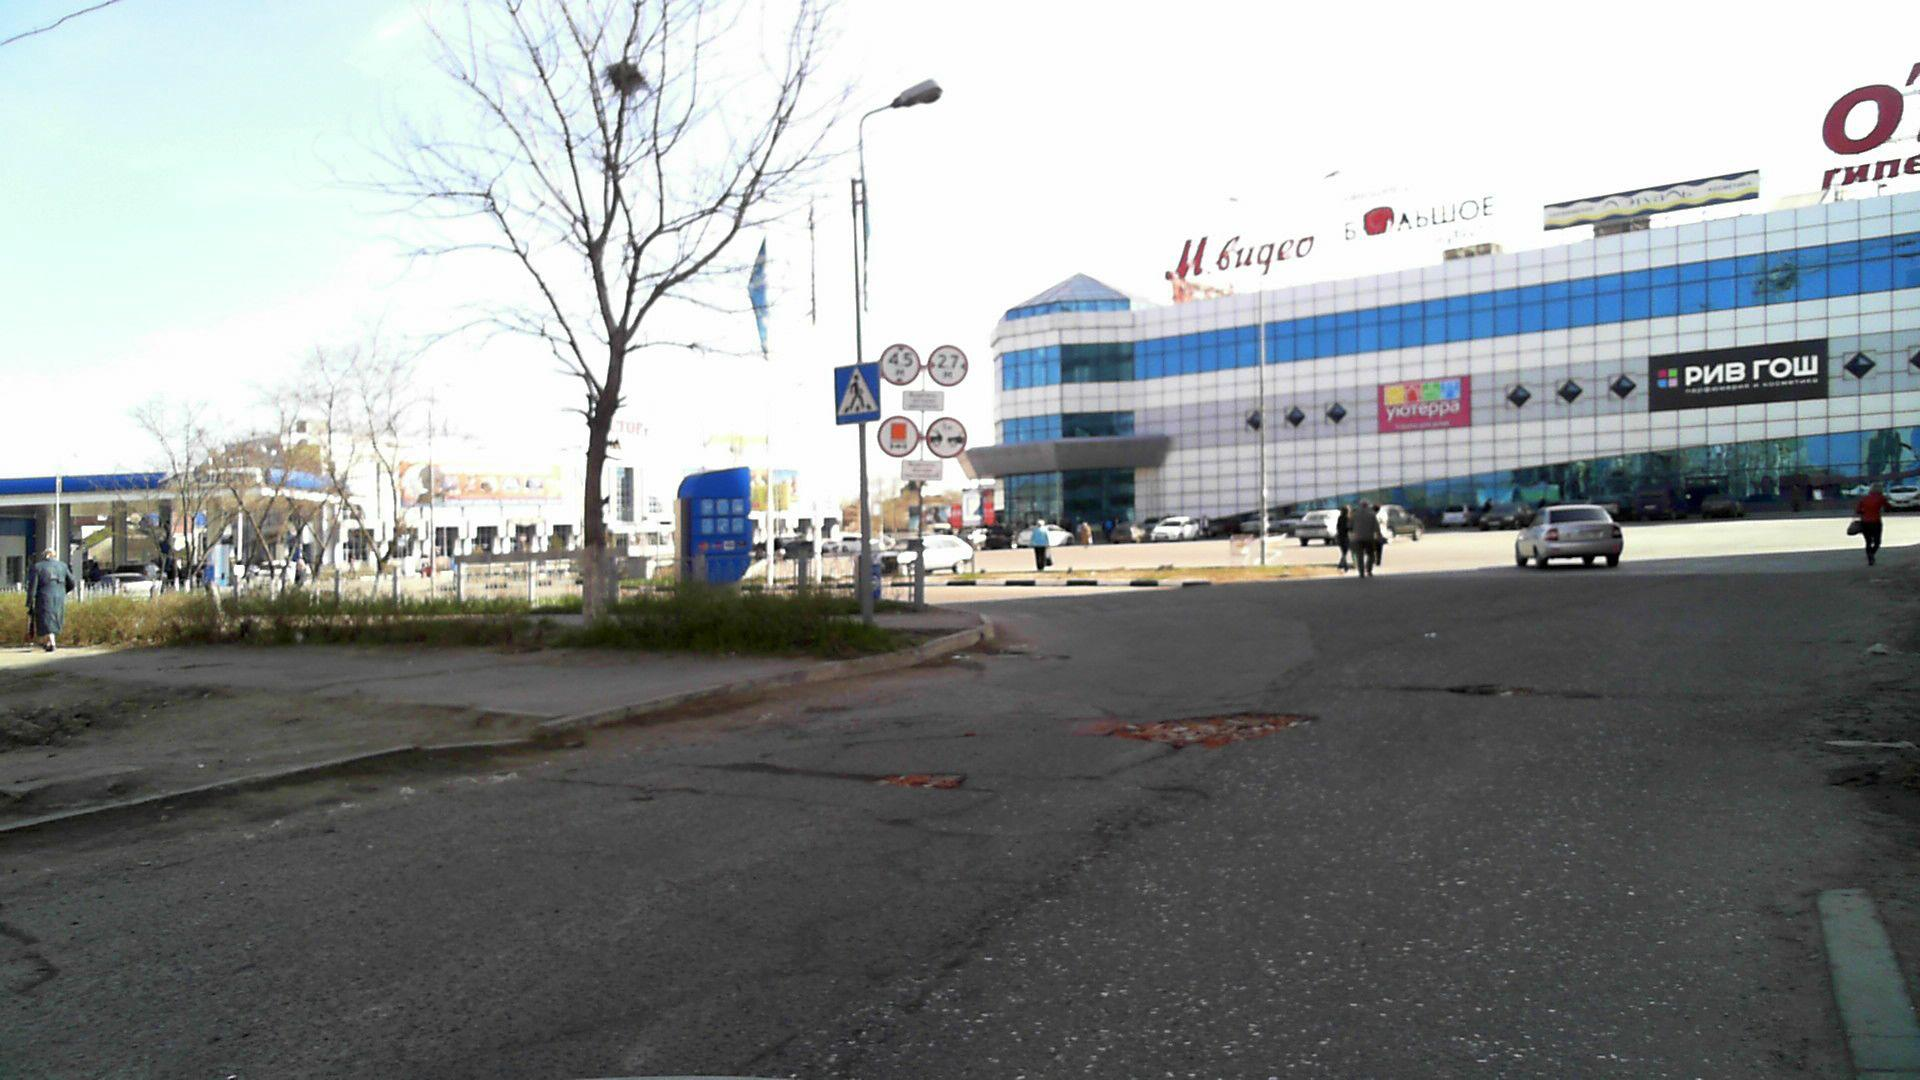3_13: (879, 342, 919, 385)
3_14: (930, 346, 966, 385)
3_16: (926, 415, 966, 458)
3_32: (877, 414, 919, 459)
5_19_2: (834, 361, 881, 422)
